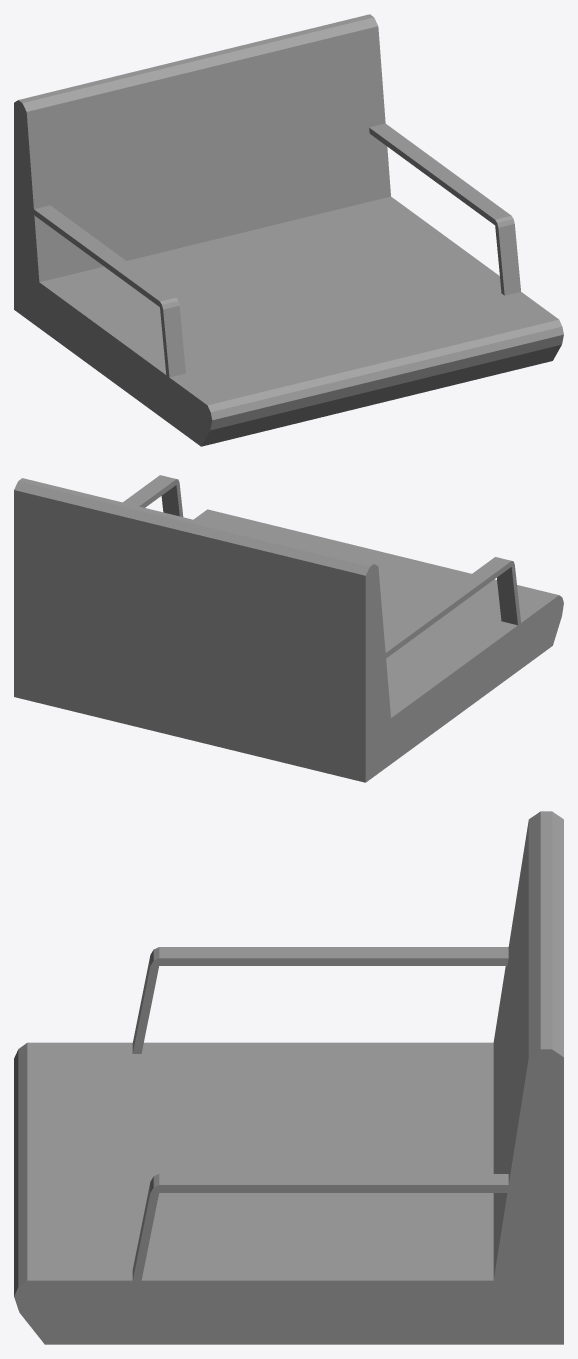
File: nyc_subway_bench_3b.obj
3 renders of one model, top to bottom at view 1: azimuth 30°, elevation 25°; view 2: azimuth 150°, elevation 25°; view 3: azimuth 270°, elevation 25°, orthographic. The views are drawn at different scales.
Visible parts, largest first — view 1: cube; view 2: cube; view 3: cube.
Boxes of the visible parts, x1=… form: cube: x1=14, y1=14, x2=563, y2=446; cube: x1=14, y1=475, x2=563, y2=782; cube: x1=14, y1=811, x2=563, y2=1344.
Bounding box in the file's own units: 1 × 0.5781 × 0.9766.
Materials: 1 (1 with a texture image).
